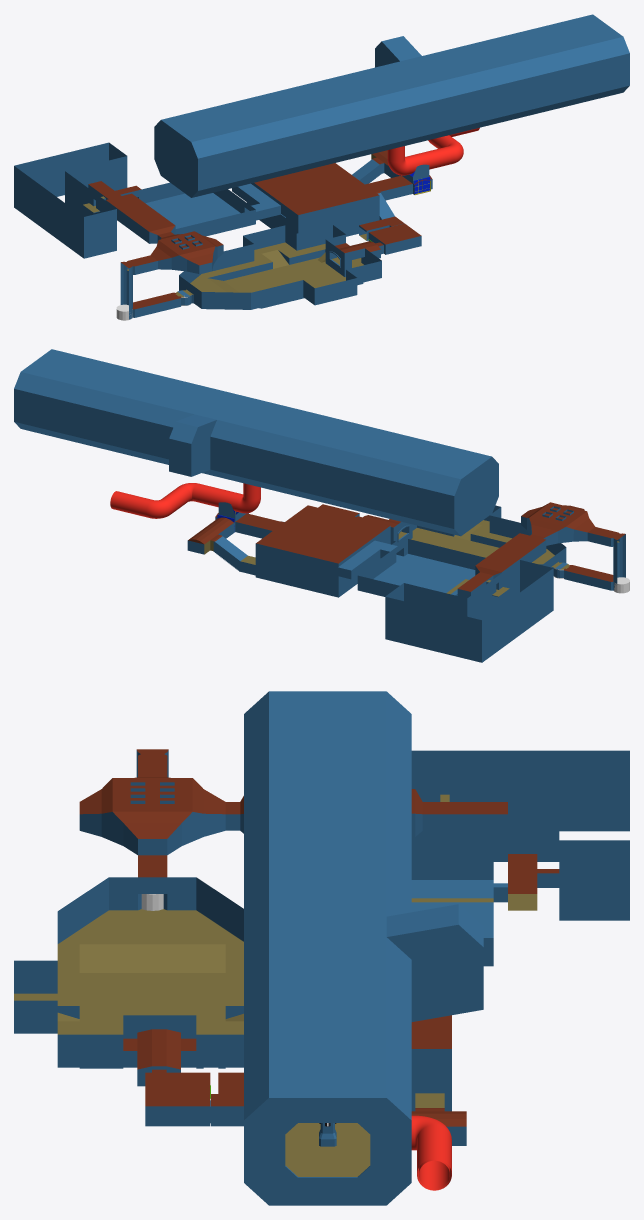
The model's file is DemoArenaProt_01.fbx.
The picture shows the model from 3 angles, top to bottom: view 1: azimuth 30°, elevation 25°; view 2: azimuth 150°, elevation 25°; view 3: azimuth 270°, elevation 25°; orthographic projection. The views are drawn at different scales.
Visible parts, largest first — view 1: PrisonHoler(ShadowCasterForEngine), FirstArena, ConteinerJump, Arena, WeaponaryRoom, ElevatorUpSection, DethRUN, EscapePipe, SecurityRoom, BottomTunel, ElevatorDownSection, LadderDown.001; view 2: PrisonHoler(ShadowCasterForEngine), ConteinerJump, Arena, WeaponaryRoom, FirstArena, ElevatorUpSection, EscapePipe, DethRUN, BottomTunel, ElevatorDownSection, LadderDown.001; view 3: PrisonHoler(ShadowCasterForEngine), FirstArena, ConteinerJump, ElevatorUpSection, WeaponaryRoom, SecurityRoom, PrisonBlock, Arena, DethRUN, EscapePipe, WeaponaryRoomCorridore, BottomTunel.
Boxes of the visible parts, bbox=[...] form: PrisonHoler(ShadowCasterForEngine): bbox=[154, 14, 629, 197]; FirstArena: bbox=[179, 225, 381, 309]; ConteinerJump: bbox=[14, 142, 127, 258]; Arena: bbox=[247, 163, 379, 236]; WeaponaryRoom: bbox=[120, 182, 280, 236]; ElevatorUpSection: bbox=[120, 231, 223, 293]; DethRUN: bbox=[88, 181, 175, 243]; EscapePipe: bbox=[387, 127, 479, 175]; SecurityRoom: bbox=[359, 216, 421, 254]; BottomTunel: bbox=[365, 150, 432, 200]; ElevatorDownSection: bbox=[120, 287, 187, 319]; LadderDown.001: bbox=[352, 158, 381, 184]; PrisonHoler(ShadowCasterForEngine): bbox=[14, 349, 498, 536]; ConteinerJump: bbox=[385, 560, 553, 662]; Arena: bbox=[240, 505, 390, 597]; WeaponaryRoom: bbox=[338, 539, 485, 596]; FirstArena: bbox=[362, 505, 566, 577]; ElevatorUpSection: bbox=[521, 502, 625, 565]; EscapePipe: bbox=[110, 483, 260, 518]; DethRUN: bbox=[457, 533, 546, 598]; BottomTunel: bbox=[187, 502, 283, 554]; ElevatorDownSection: bbox=[557, 559, 625, 590]; LadderDown.001: bbox=[213, 535, 247, 571]; PrisonHoler(ShadowCasterForEngine): bbox=[244, 691, 483, 1205]; FirstArena: bbox=[14, 877, 243, 1086]; ConteinerJump: bbox=[411, 750, 629, 920]; ElevatorUpSection: bbox=[79, 749, 232, 855]; WeaponaryRoom: bbox=[411, 851, 500, 966]; SecurityRoom: bbox=[145, 1069, 243, 1126]; PrisonBlock: bbox=[285, 1123, 370, 1177]; Arena: bbox=[411, 1015, 451, 1111]; DethRUN: bbox=[233, 789, 507, 836]; EscapePipe: bbox=[411, 1115, 451, 1190]; WeaponaryRoomCorridore: bbox=[500, 854, 544, 910]; BottomTunel: bbox=[411, 1108, 466, 1145].
Size of the model in its own units: 16352 by 4143 by 8440.
